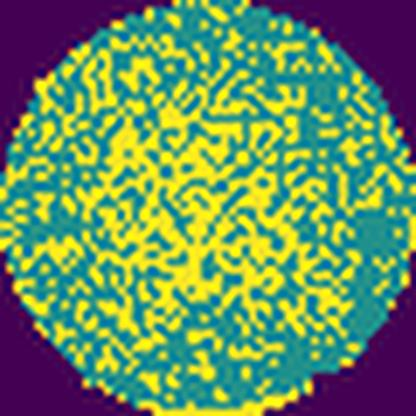Random: (0, 0, 380, 386)
